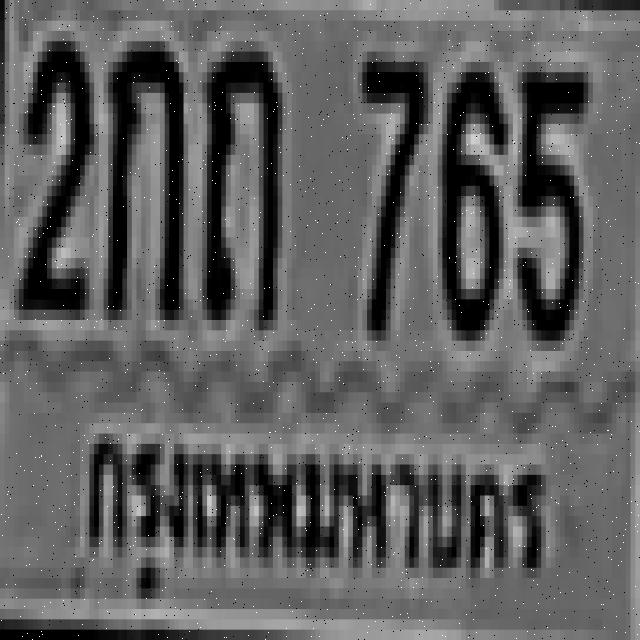10GorGai: (103, 32, 179, 310)
2: (12, 32, 88, 310)
31ThorThung: (198, 42, 278, 320)
5: (513, 62, 583, 340)
6: (440, 52, 501, 330)
7: (358, 42, 423, 330)
Bangkok: (70, 391, 556, 631)
